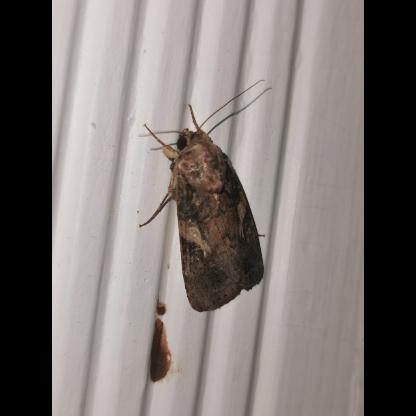Fall Armyworm Moth: (136, 78, 270, 316)
